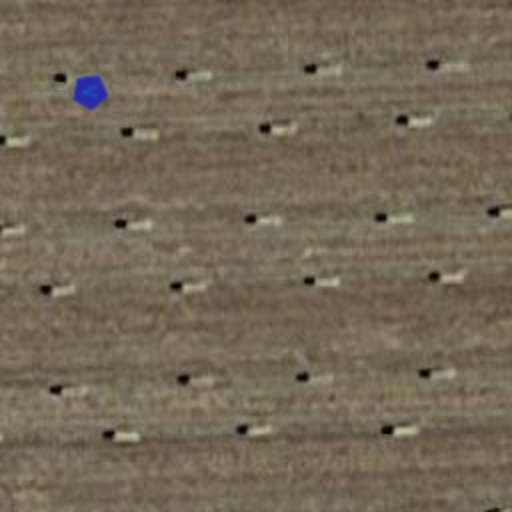pentagon: (68, 70, 112, 114)
